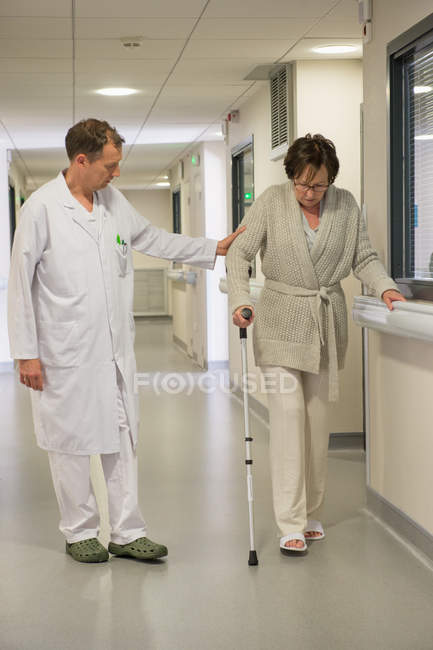crutches: (226, 133, 398, 567)
